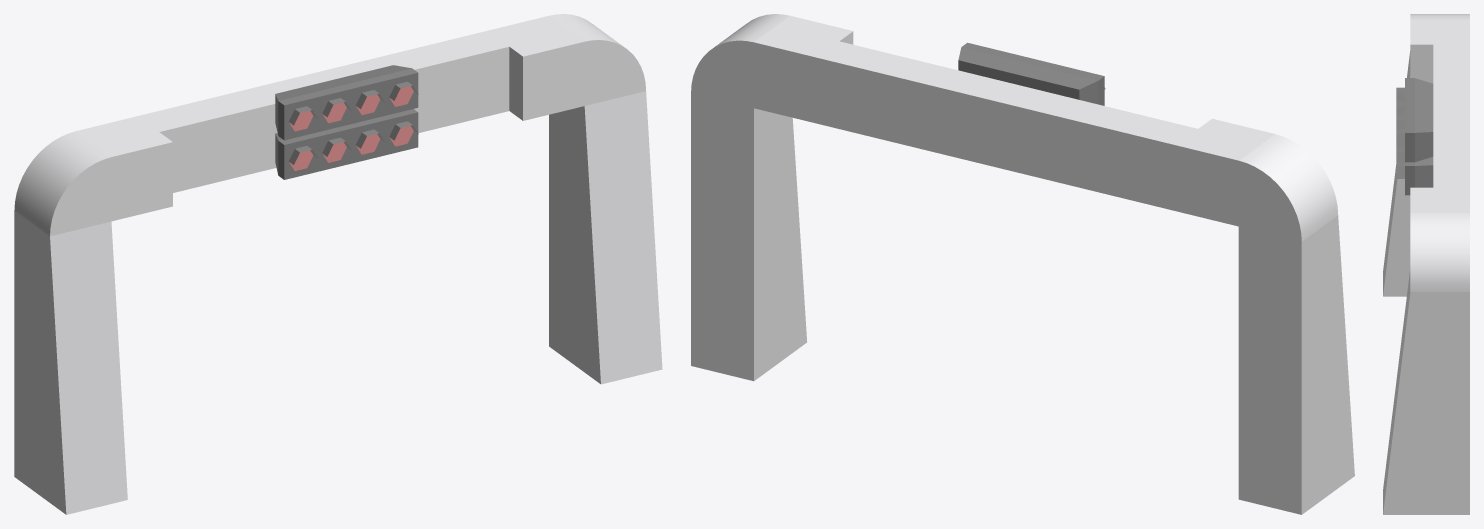
File: overheadLights.glb
The picture shows the model from 3 angles, left to right: view 1: azimuth 30°, elevation 25°; view 2: azimuth 150°, elevation 25°; view 3: azimuth 270°, elevation 25°; orthographic projection. The views are drawn at different scales.
Visible parts, largest first — view 1: overheadLights(Clone); view 2: overheadLights(Clone); view 3: overheadLights(Clone).
Boxes of the visible parts, x1,y1,x2,y2 form: overheadLights(Clone): (14, 14, 662, 514); overheadLights(Clone): (691, 14, 1354, 514); overheadLights(Clone): (1383, 14, 1469, 514).
Bounding box in the file's own units: 1.26 × 0.6939 × 0.19.
Materials: 1 (1 with a texture image).
